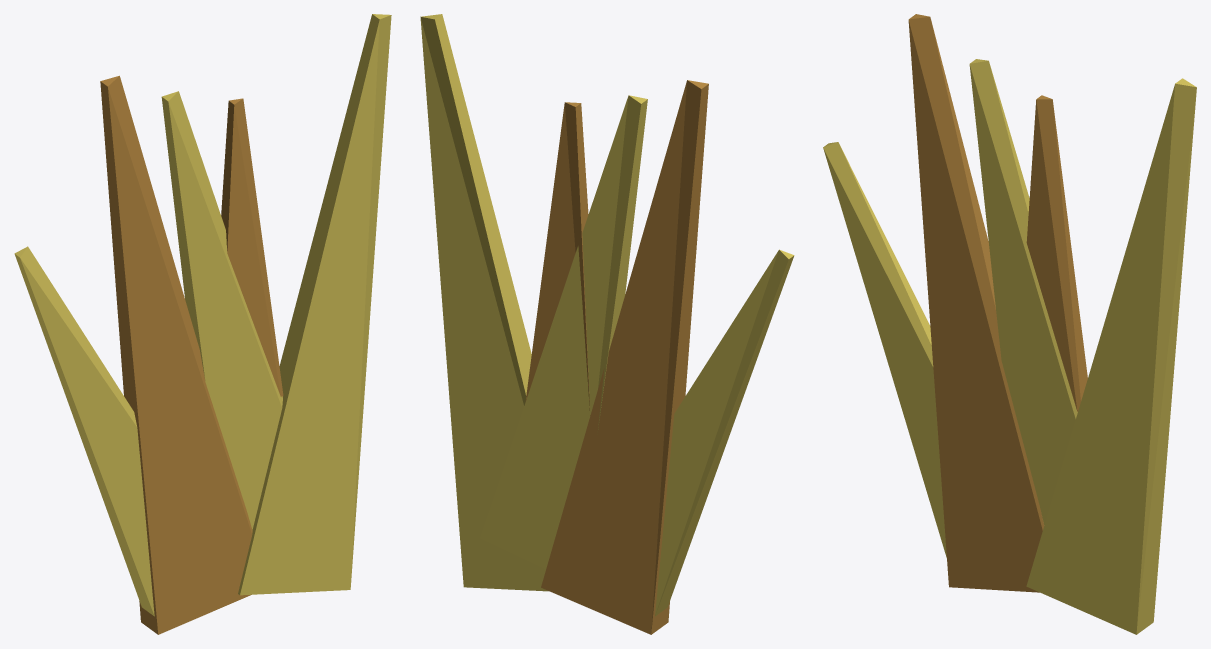
File: Grass_1_Autumn_2_mat.fbx
The picture shows the model from 3 angles, left to right: view 1: azimuth 30°, elevation 25°; view 2: azimuth 150°, elevation 25°; view 3: azimuth 330°, elevation 25°; orthographic projection.
Visible parts, largest first — view 1: Grass_1_Autumn_2_mat; view 2: Grass_1_Autumn_2_mat; view 3: Grass_1_Autumn_2_mat.
Boxes of the visible parts, bbox=[...] form: Grass_1_Autumn_2_mat: bbox=[14, 14, 391, 634]; Grass_1_Autumn_2_mat: bbox=[420, 14, 794, 634]; Grass_1_Autumn_2_mat: bbox=[823, 14, 1196, 634].
Bounding box in the file's own units: 23.63 × 33.78 × 2.11.
